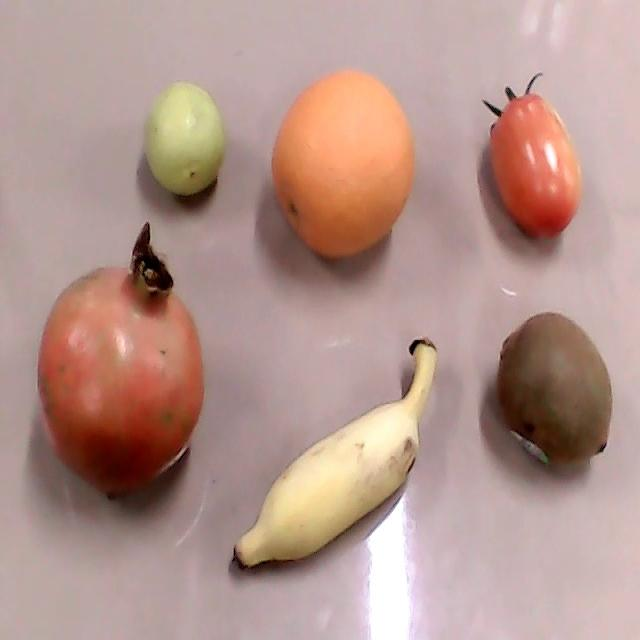kiwi: (496, 312, 612, 469)
lemon: (143, 80, 225, 195)
orange: (270, 69, 415, 257)
pomegranate: (37, 222, 203, 493)
tomato: (482, 72, 582, 238)
